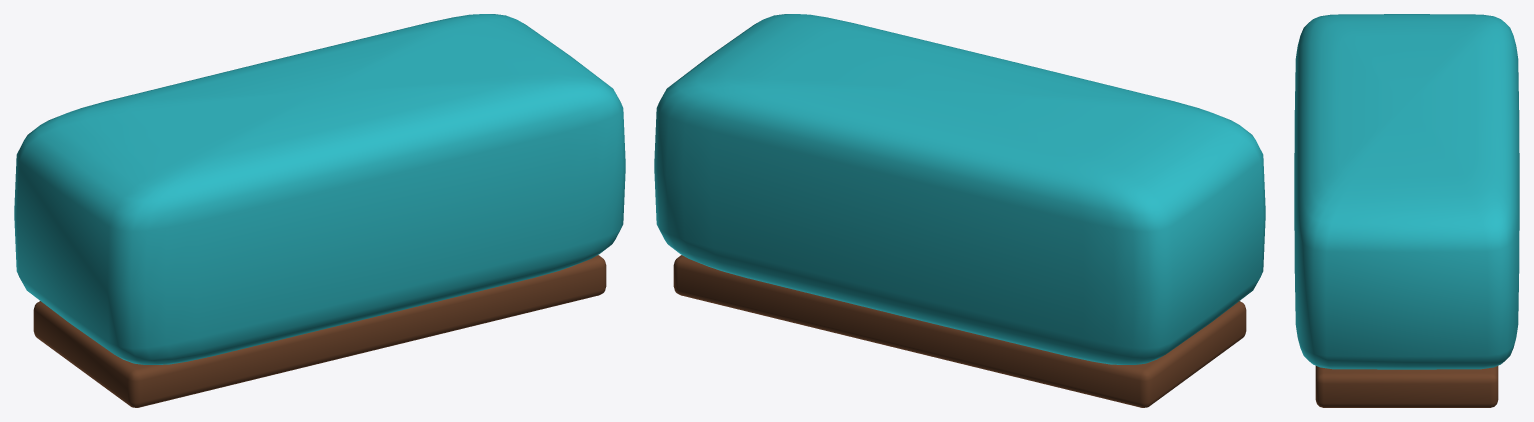
File: pufe_banco_turquesa.glb
The picture shows the model from 3 angles, left to right: view 1: azimuth 30°, elevation 25°; view 2: azimuth 150°, elevation 25°; view 3: azimuth 270°, elevation 25°; orthographic projection. The views are drawn at different scales.
Visible parts, largest first — view 1: pufe_banco_turquesa; view 2: pufe_banco_turquesa; view 3: pufe_banco_turquesa.
Boxes of the visible parts, x1,y1,x2,y2 form: pufe_banco_turquesa: (14,14,625,407); pufe_banco_turquesa: (654,14,1265,407); pufe_banco_turquesa: (1294,14,1519,407).
Bounding box in the file's own units: 1 × 0.415 × 0.42.
1 material, 1 textured.
